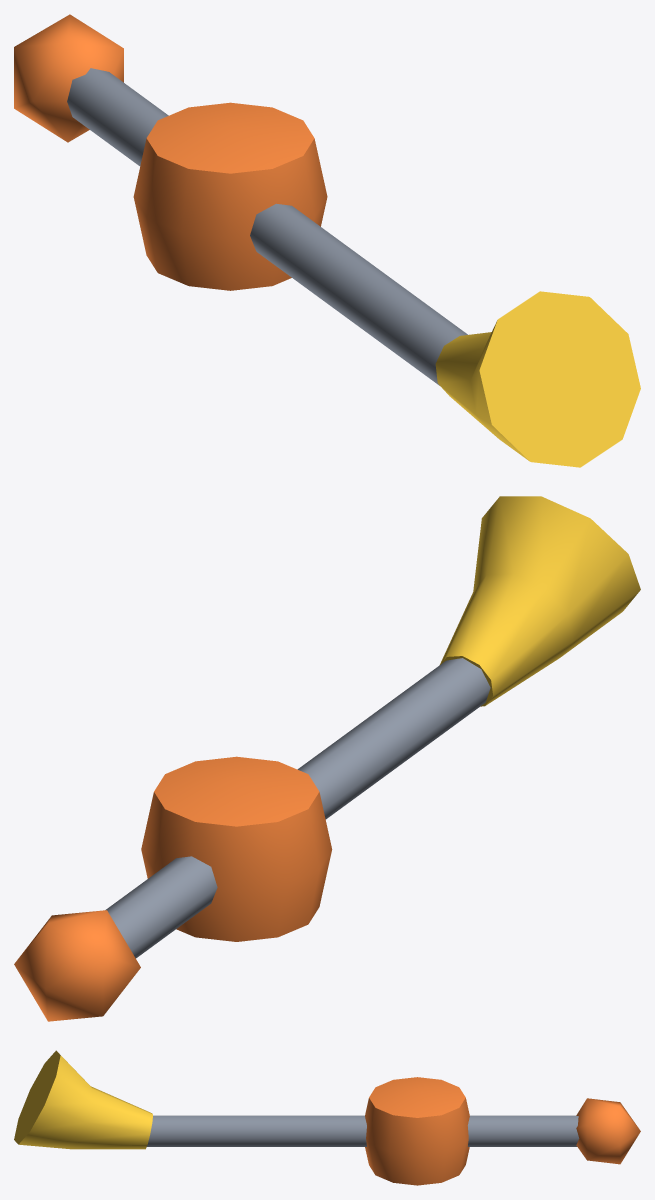
The model's file is SprinklerHead.fbx.
The picture shows the model from 3 angles, top to bottom: view 1: azimuth 30°, elevation 25°; view 2: azimuth 150°, elevation 25°; view 3: azimuth 270°, elevation 25°; orthographic projection. The views are drawn at different scales.
Visible parts, largest first — view 1: SprinklerHead; view 2: SprinklerHead; view 3: SprinklerHead.
Boxes of the visible parts, x1,y1,x2,y2 form: SprinklerHead: (14,14,640,467); SprinklerHead: (14,496,640,1021); SprinklerHead: (14,1050,640,1185).
Size of the model in its own units: 0.3 by 0.3252 by 1.68.
